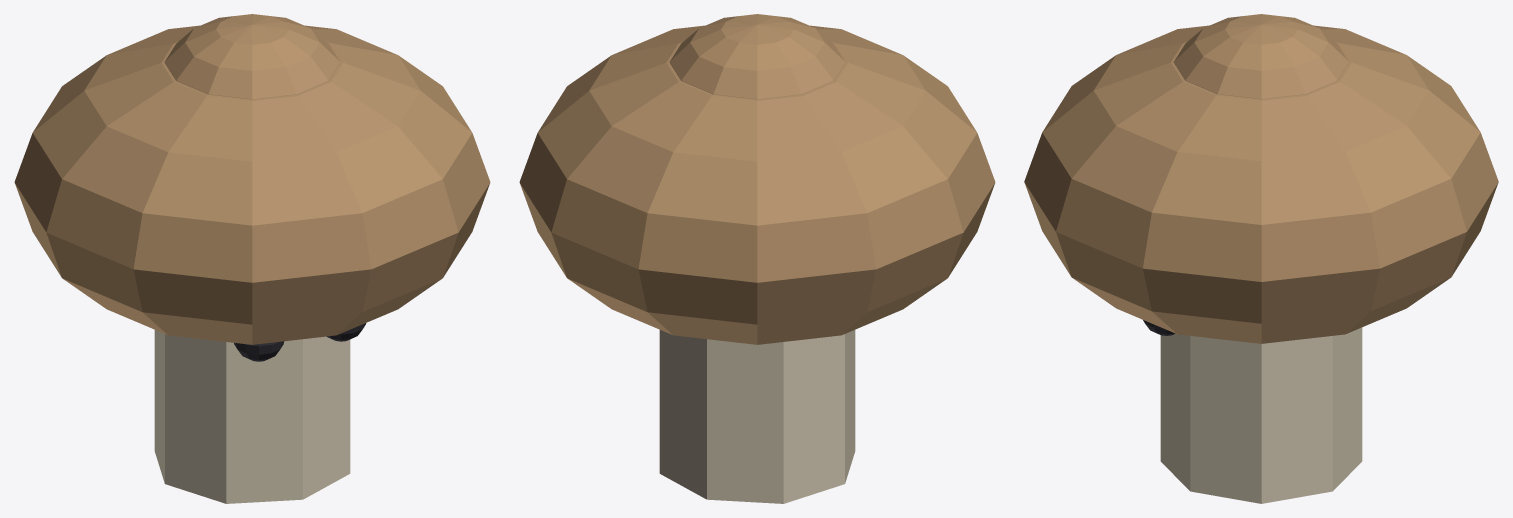
Rendered from creature_mushroom_brown.glb.
The picture shows the model from 3 angles, left to right: view 1: azimuth 30°, elevation 25°; view 2: azimuth 150°, elevation 25°; view 3: azimuth 270°, elevation 25°; orthographic projection.
Parts seen in each view (by area): view 1: creature_mushroom_brown; view 2: creature_mushroom_brown; view 3: creature_mushroom_brown.
Boxes of the visible parts, left/top/right/bottom form: creature_mushroom_brown: left=14, top=14, right=490, bottom=503; creature_mushroom_brown: left=519, top=14, right=995, bottom=503; creature_mushroom_brown: left=1024, top=14, right=1498, bottom=503.
Bounding box in the file's own units: 0.9852 × 1 × 0.9852.
